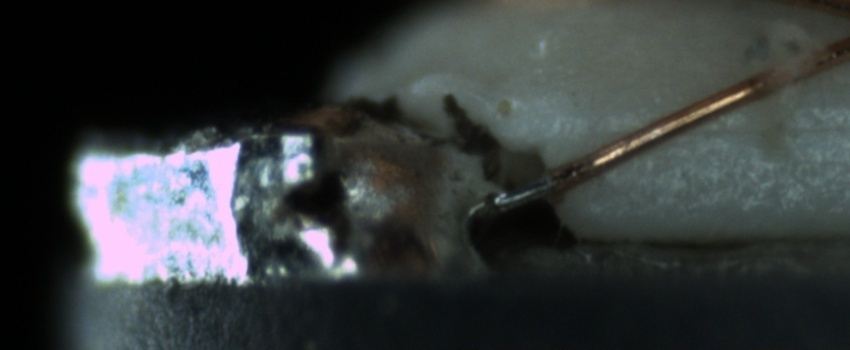DL: (613, 102, 849, 156)
TS: (485, 173, 557, 210)
